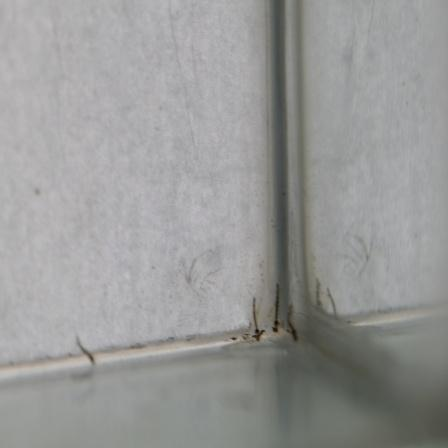Jentik-Nyamuk: (270, 279, 283, 338), (248, 295, 263, 342)
